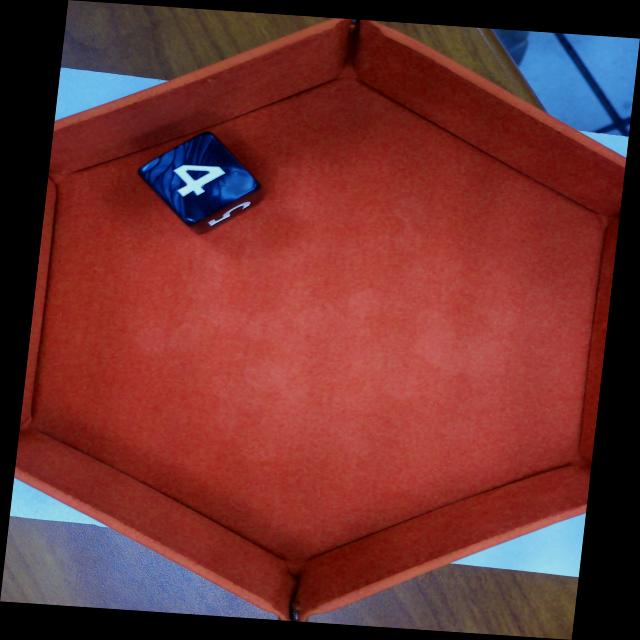dice: (139, 133, 259, 223)
